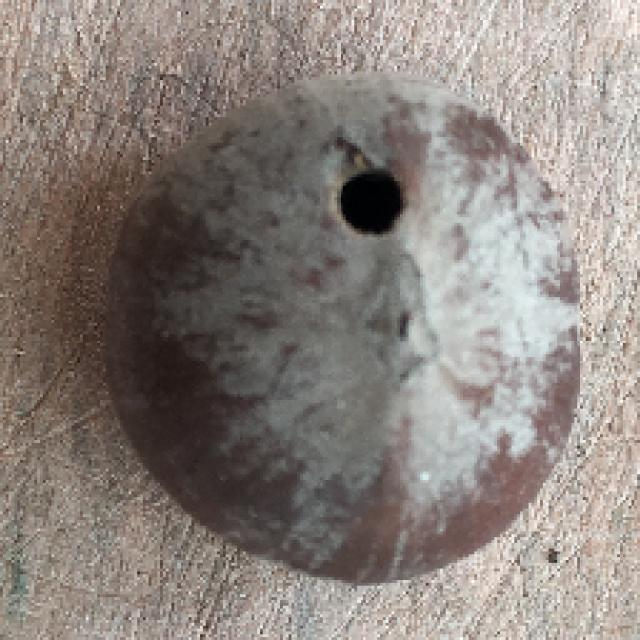DamagedHazelnut: (100, 66, 579, 588)
